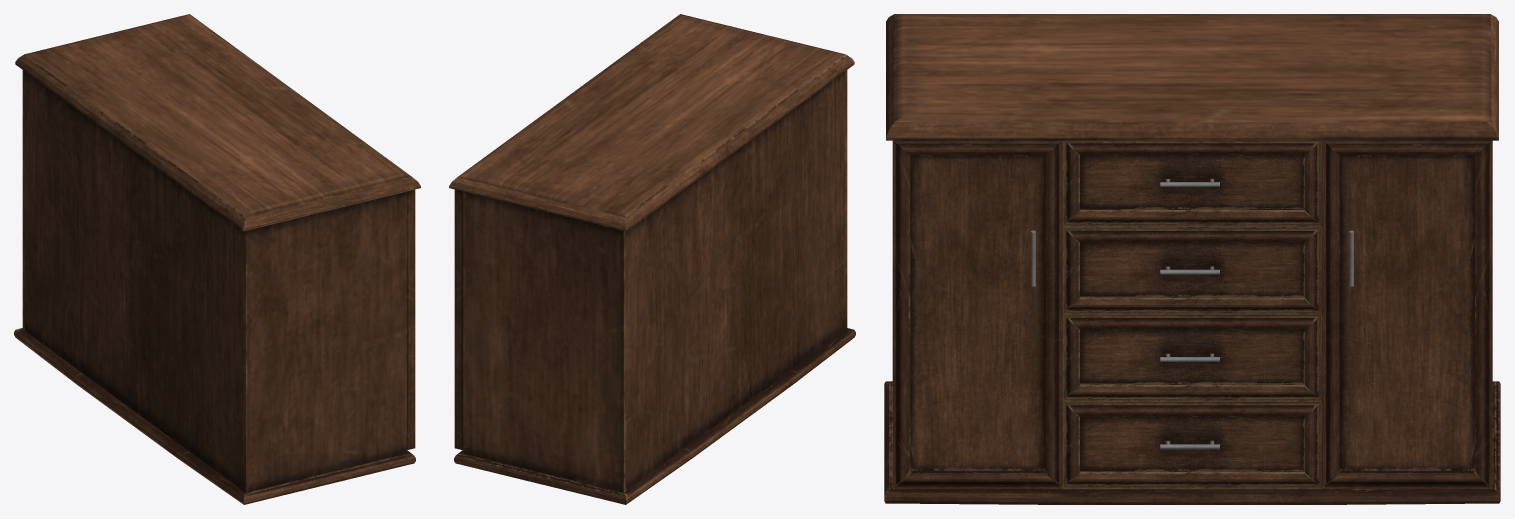
Rendered from Dresser.glb.
3 views of the same model, side by side, from view 1: azimuth 30°, elevation 25°; view 2: azimuth 150°, elevation 25°; view 3: azimuth 270°, elevation 25° (orthographic). The views are drawn at different scales.
Visible parts, largest first — view 1: dresser_base, Dresser_door_l; view 2: dresser_base, dresser_door_r; view 3: dresser_base, dresser_door_r, Dresser_door_l, dresser_chest3, Dresser_chest, dresser_chest2, dresser_chest4.
Boxes of the visible parts, x1,y1,x2,y2 form: dresser_base: (14,14,420,504); Dresser_door_l: (407,189,415,449); dresser_base: (449,14,855,504); dresser_door_r: (454,189,462,449); dresser_base: (884,14,1500,504); dresser_door_r: (1322,140,1492,489); Dresser_door_l: (892,140,1062,489); dresser_chest3: (1062,227,1322,314); Dresser_chest: (1062,402,1322,489); dresser_chest2: (1062,314,1322,401); dresser_chest4: (1062,140,1322,226).
Bounding box in the file's own units: 0.5627 × 0.8509 × 1.23.
Materials: 1 (1 with a texture image).
